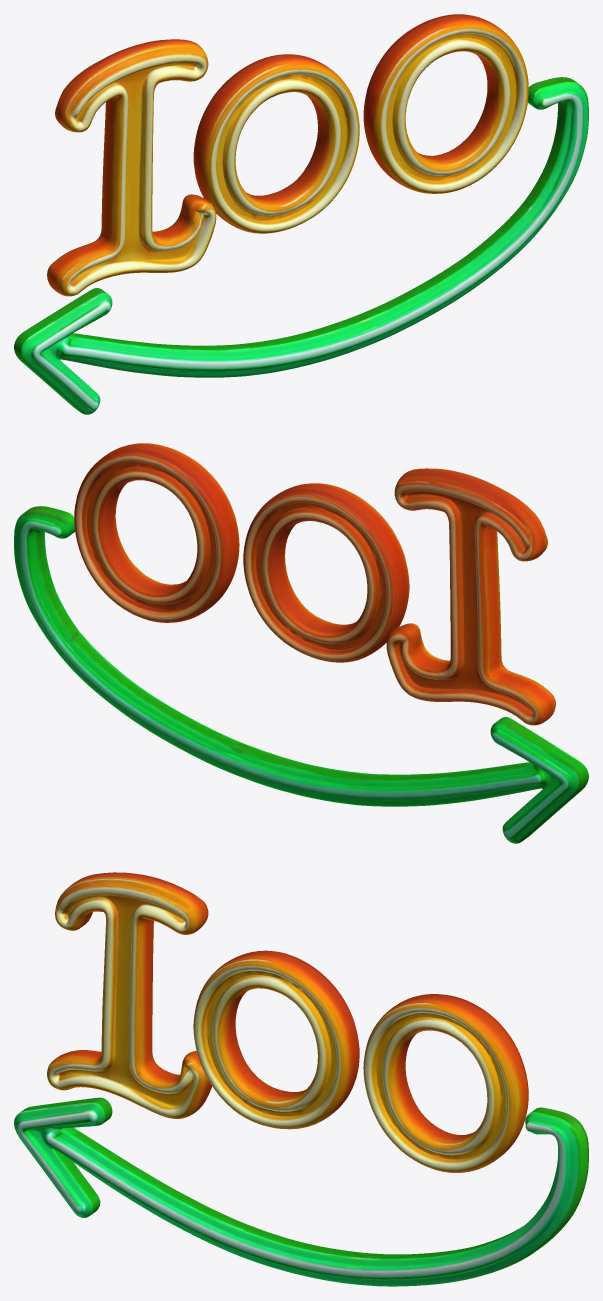
Rendered from 1k-LooSign1.glb.
The picture shows the model from 3 angles, top to bottom: view 1: azimuth 30°, elevation 25°; view 2: azimuth 150°, elevation 25°; view 3: azimuth 330°, elevation 25°; orthographic projection.
Parts seen in each view (by area): view 1: tripo_node_05de0fc3-e63e-4048-b85e-50d28f8054fd; view 2: tripo_node_05de0fc3-e63e-4048-b85e-50d28f8054fd; view 3: tripo_node_05de0fc3-e63e-4048-b85e-50d28f8054fd.
Boxes of the visible parts, bbox=[...] form: tripo_node_05de0fc3-e63e-4048-b85e-50d28f8054fd: bbox=[14, 14, 588, 414]; tripo_node_05de0fc3-e63e-4048-b85e-50d28f8054fd: bbox=[14, 443, 588, 843]; tripo_node_05de0fc3-e63e-4048-b85e-50d28f8054fd: bbox=[14, 872, 588, 1286].
Bounding box in the file's own units: 0.9791 × 0.5874 × 0.0551.
Materials: 1 (1 with a texture image).
